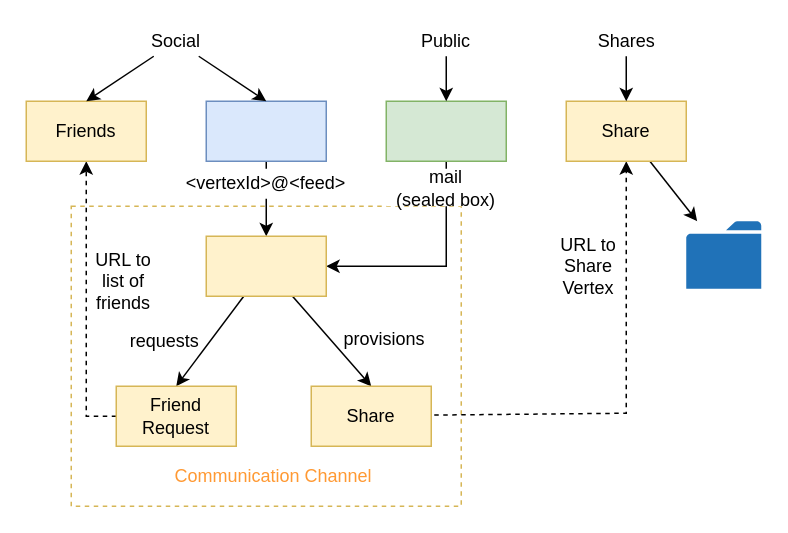
This 788x533 diagram has some shape labels left out. Here are the shapes that lost their labels. From the top down, the centre of each, then its label:
(x=265, y=130): Channels
(x=445, y=130): Outbox
(x=265, y=265): Init
